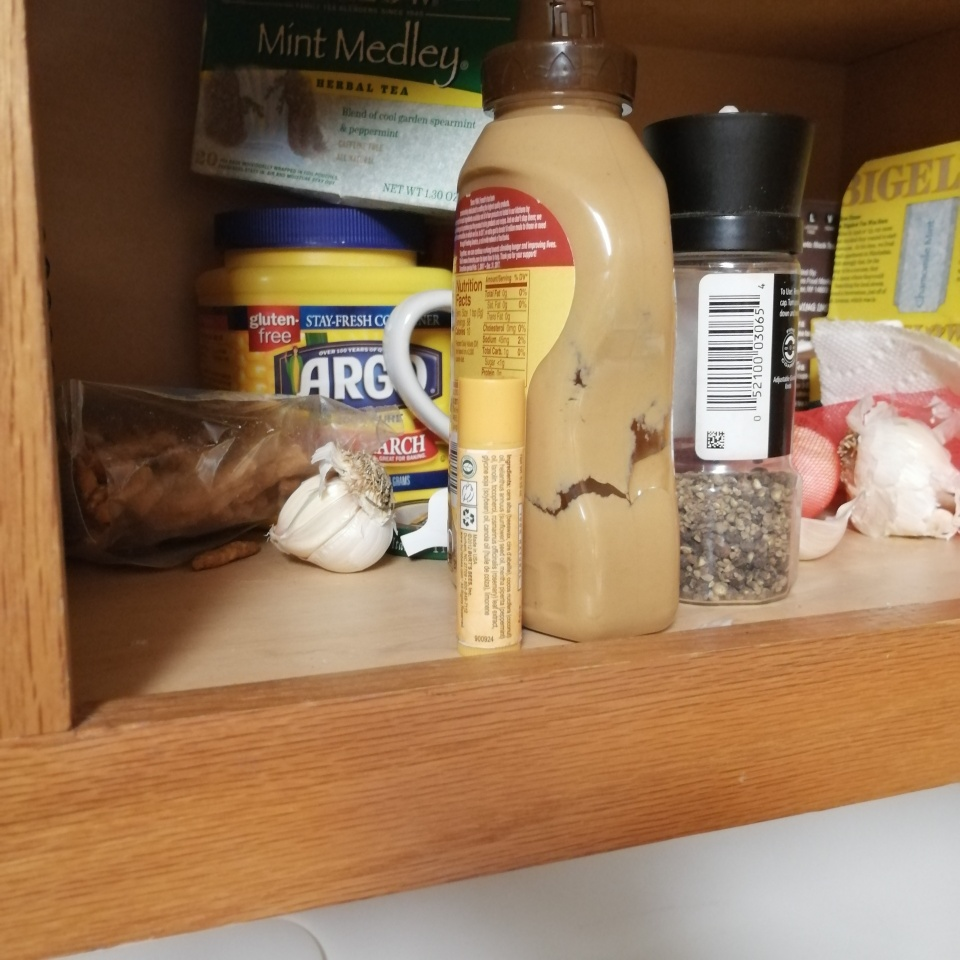chapstick: (455, 376, 526, 656)
